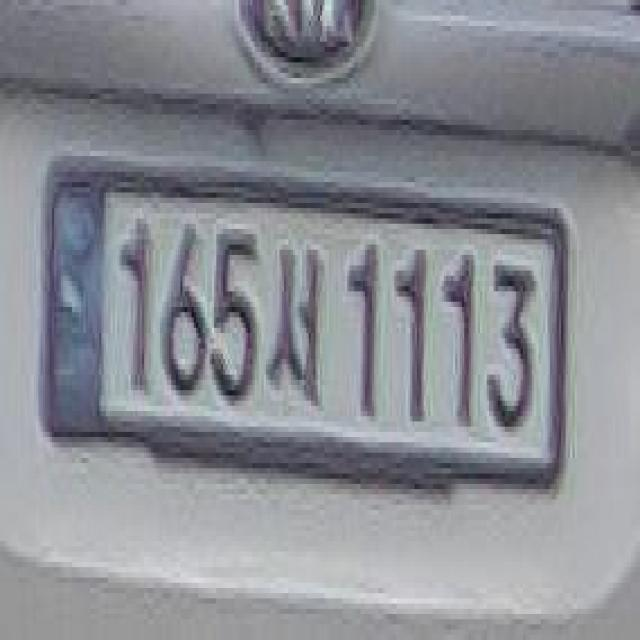illegal_plate: (43, 155, 569, 518)
